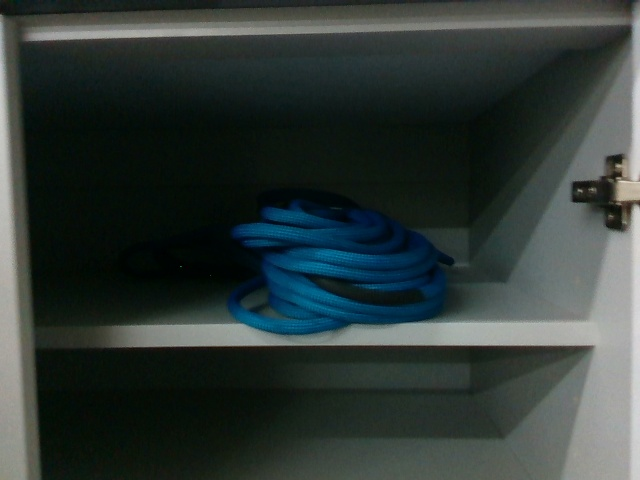rope: (250, 209, 450, 321)
